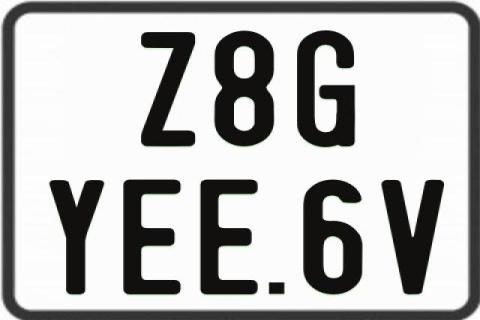0: (214, 31, 279, 151), (300, 180, 361, 296)
E: (197, 180, 256, 296), (123, 180, 181, 296)
G: (296, 30, 355, 148)
V: (379, 180, 443, 299)
Y: (50, 177, 107, 293)
Z: (141, 29, 195, 145)
